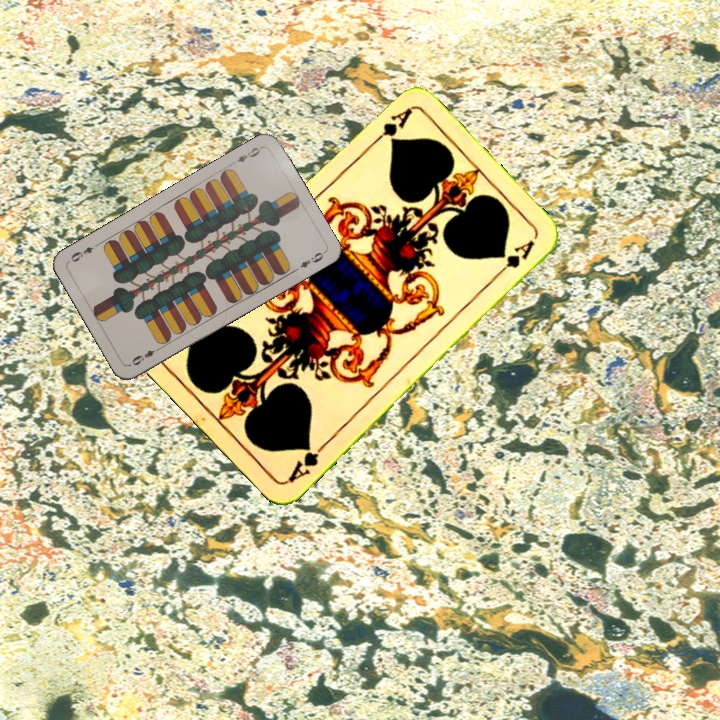E9: (227, 143, 265, 168), (128, 343, 164, 368)
GA: (283, 437, 330, 486), (366, 104, 415, 150)
